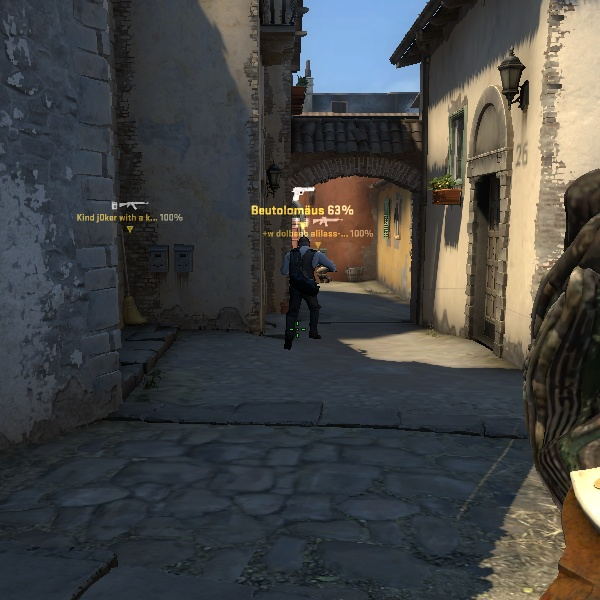t_body: (282, 237, 331, 348)
t_head: (298, 237, 310, 249)
